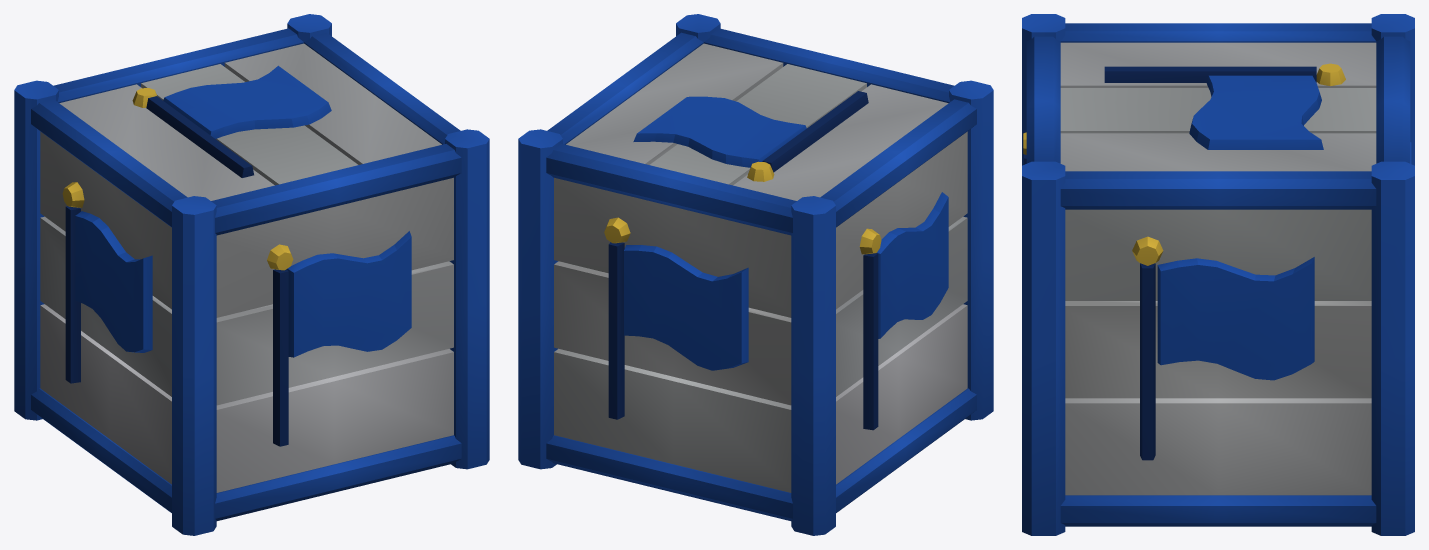
File: box_checkpoint.glb
3 renders of one model, left to right at view 1: azimuth 30°, elevation 25°; view 2: azimuth 150°, elevation 25°; view 3: azimuth 270°, elevation 25°, orthographic. The views are drawn at different scales.
Visible parts, largest first — view 1: box_checkpoint; view 2: box_checkpoint; view 3: box_checkpoint.
Part boxes in pixels (<box>): box_checkpoint: <box>14,14,489,535</box>; box_checkpoint: <box>518,14,993,535</box>; box_checkpoint: <box>1022,14,1414,535</box>.
Bounding box in the file's own units: 1 × 1 × 1.
